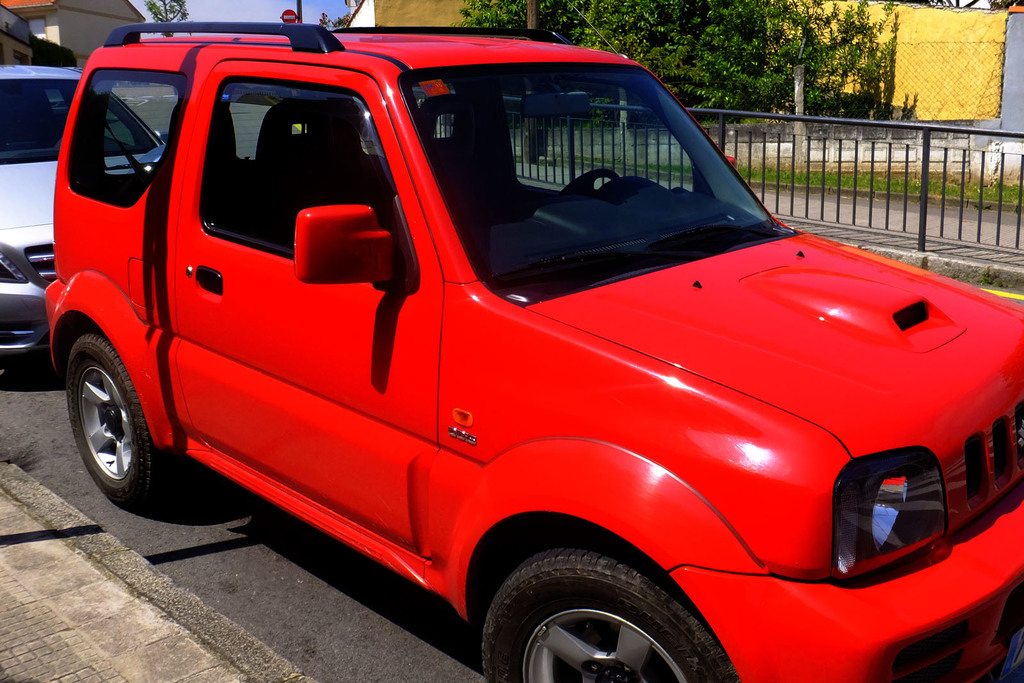Car: (42, 25, 1023, 682), (0, 64, 165, 362)
